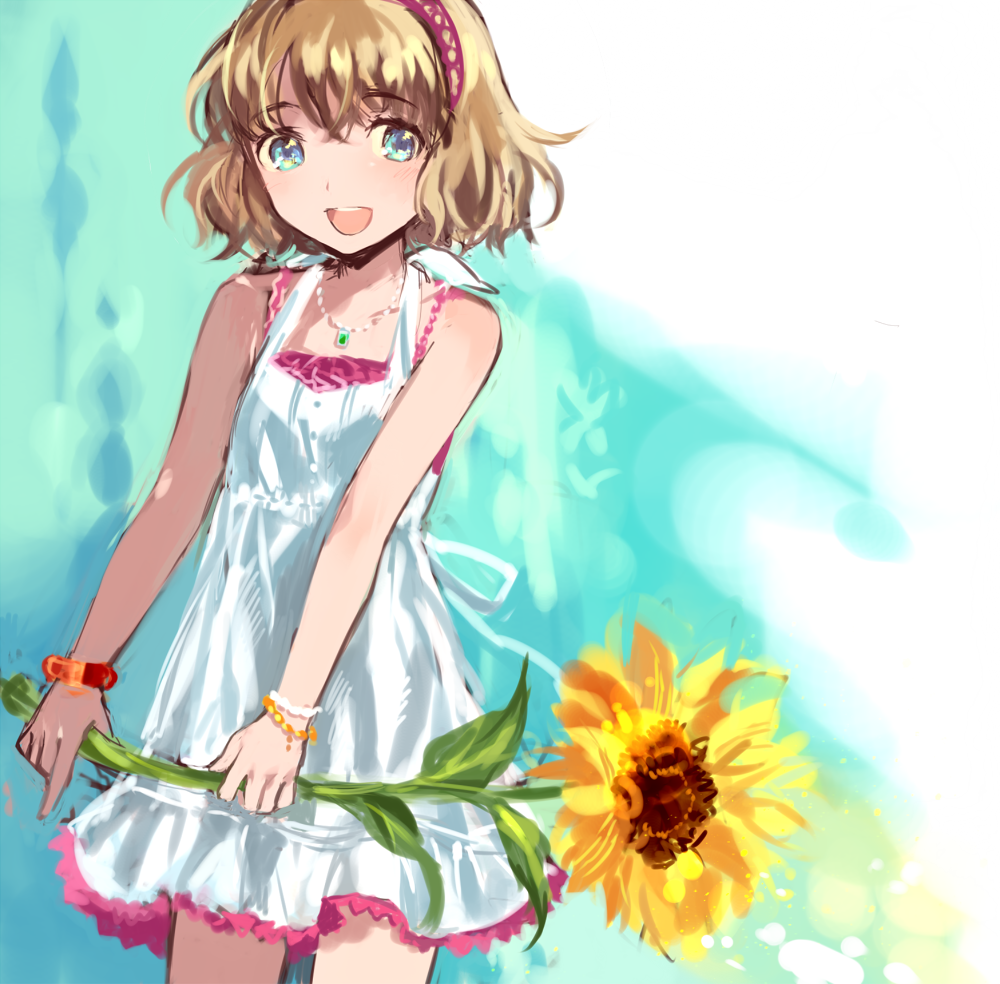纸片人正脸: (181, 0, 516, 269)
